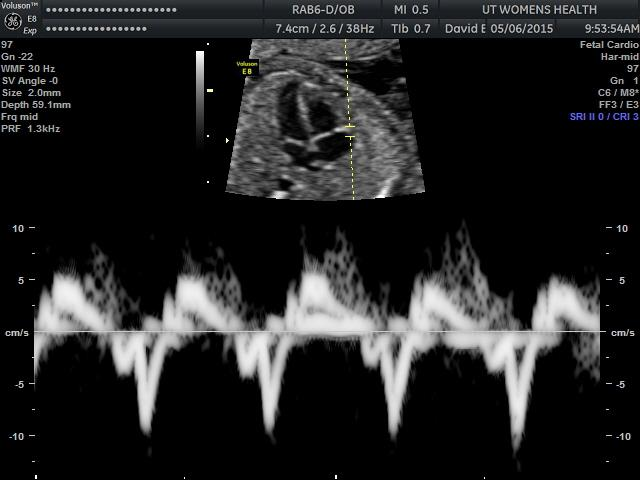Ultrasound-Waves: (36, 219, 603, 465)
